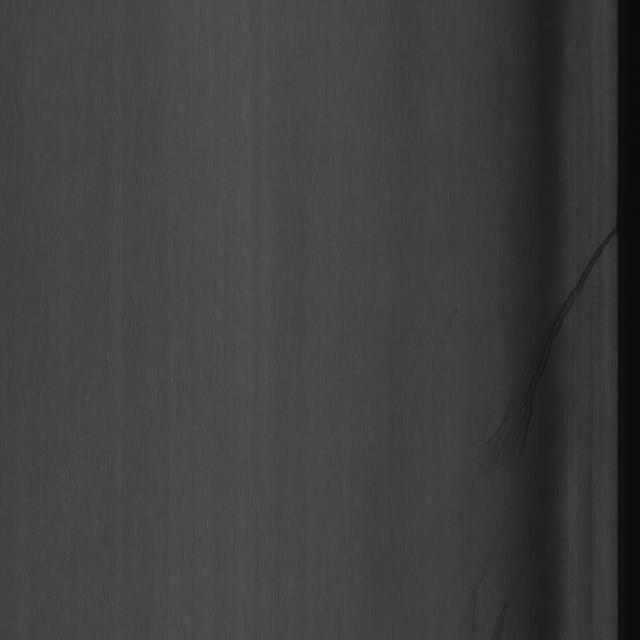water_spot: (473, 191, 615, 502)
